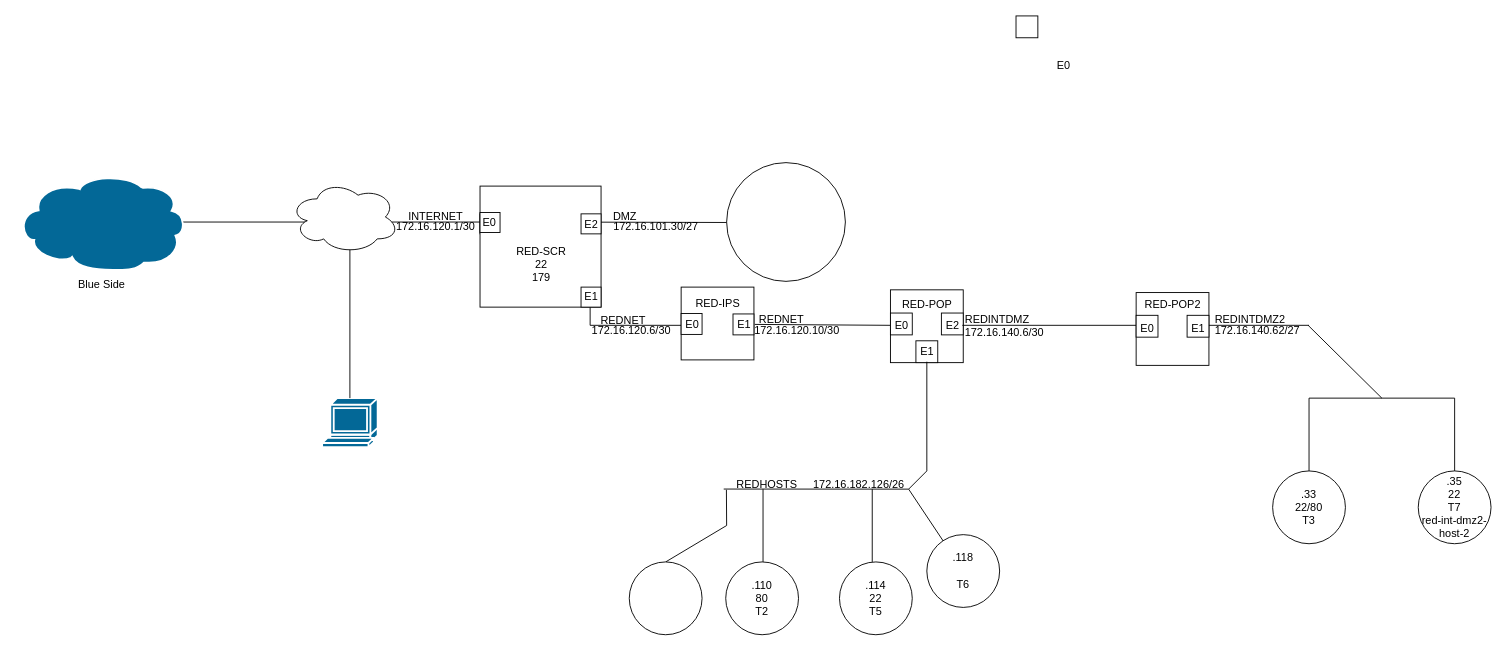
This 1507x651 diagram has some shape labels left out. The box of each missing label's shape, as (x1, y1, x2, y2) in pixels:
.106 red-host-1 T4: (628, 561, 702, 635)
red-dmz-host-1 172.16.101.2 22: (726, 162, 845, 281)
